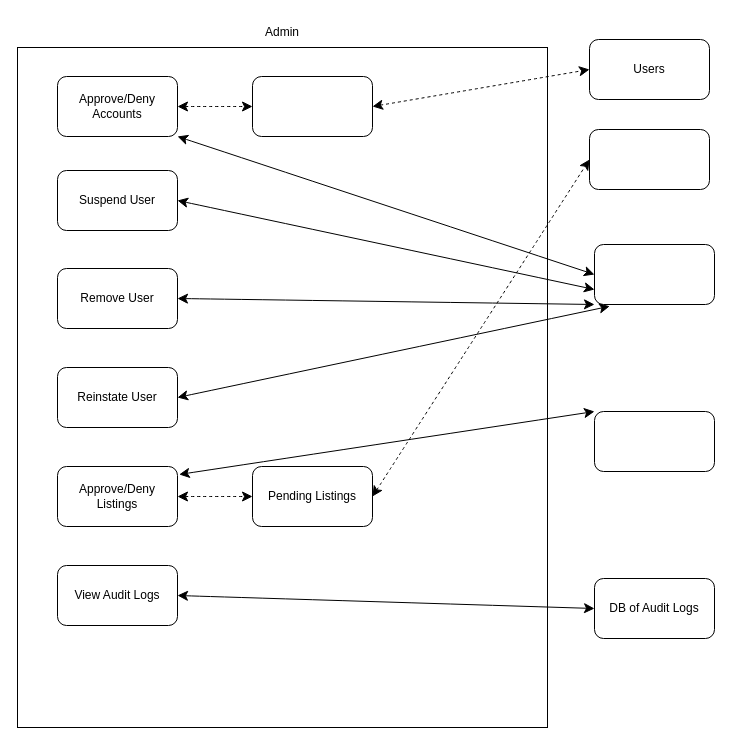
This 732x745 diagram has some shape labels left out. The box of each missing label's shape, as (x1, y1, x2, y2) in pixels:
DB of Listings: (594, 410, 714, 472)
DB of Users: (594, 244, 714, 304)
Pending Accounts: (252, 76, 372, 136)
Seller: (588, 128, 710, 190)
